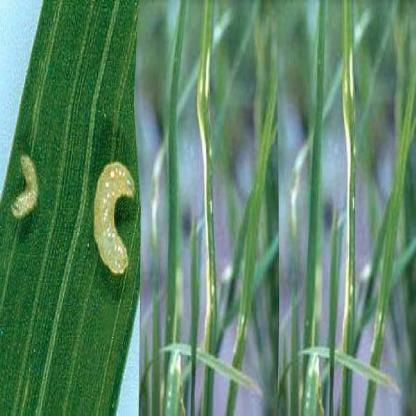whorl-maggot: (92, 147, 138, 284), (12, 142, 40, 233)
